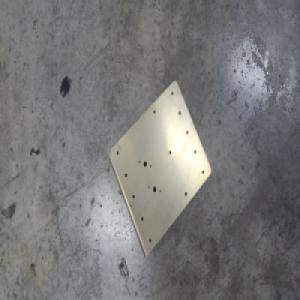MetalSheet: (106, 78, 212, 260)
